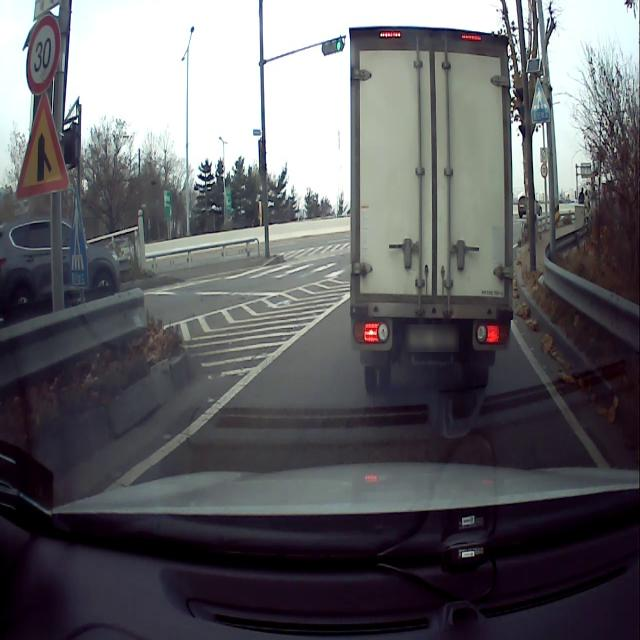Green Light: (335, 36, 343, 52)
